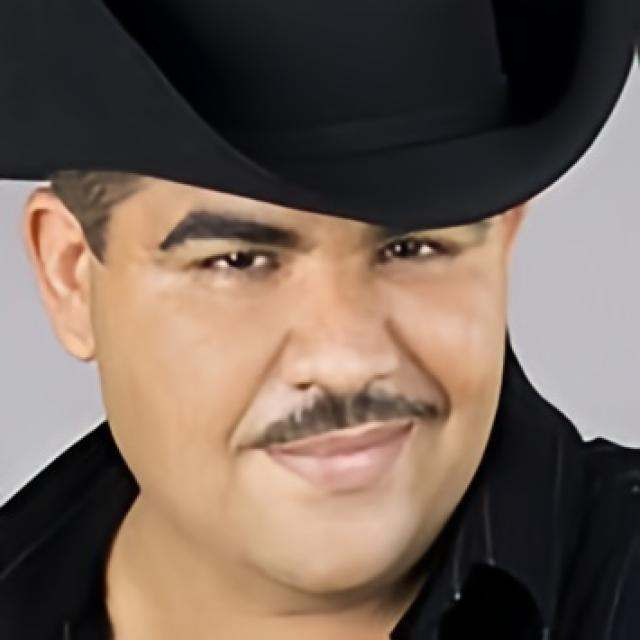content: (95, 171, 503, 594)
